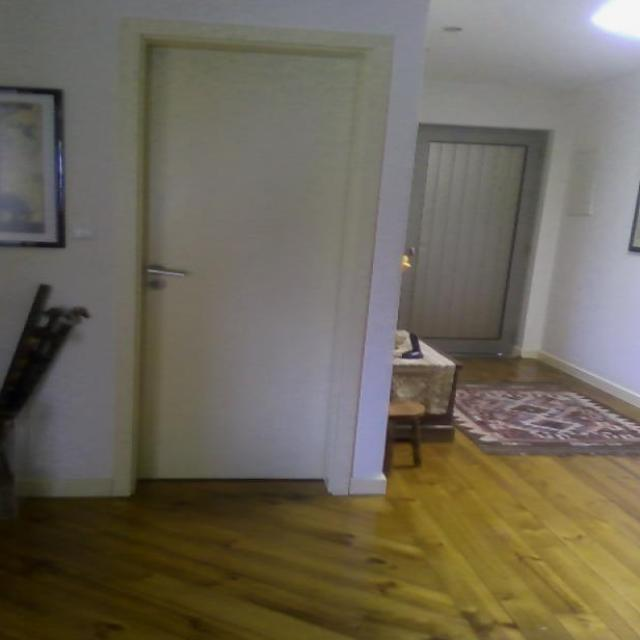door: (136, 34, 373, 485)
